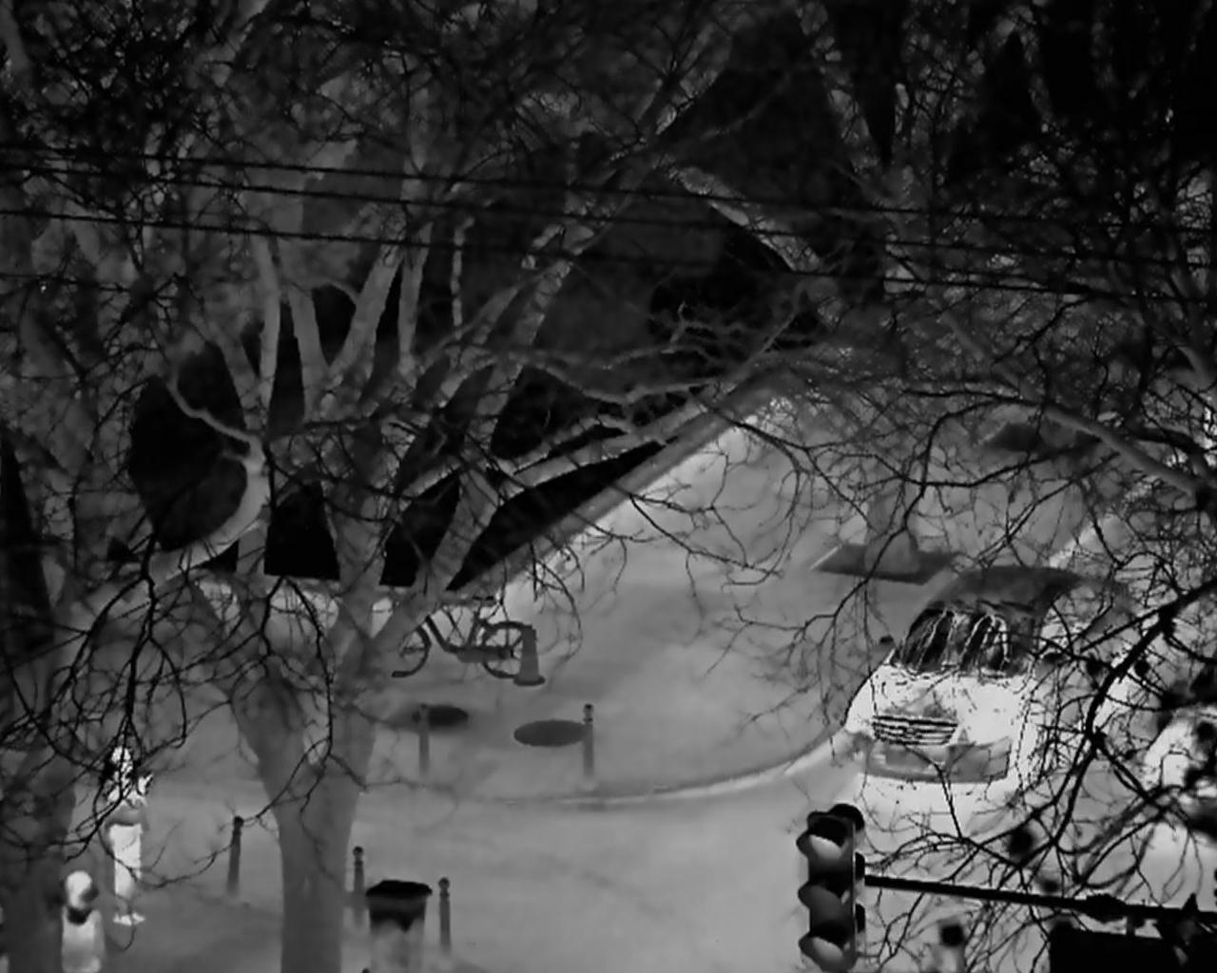person: (101, 743, 150, 928), (61, 868, 105, 973)
